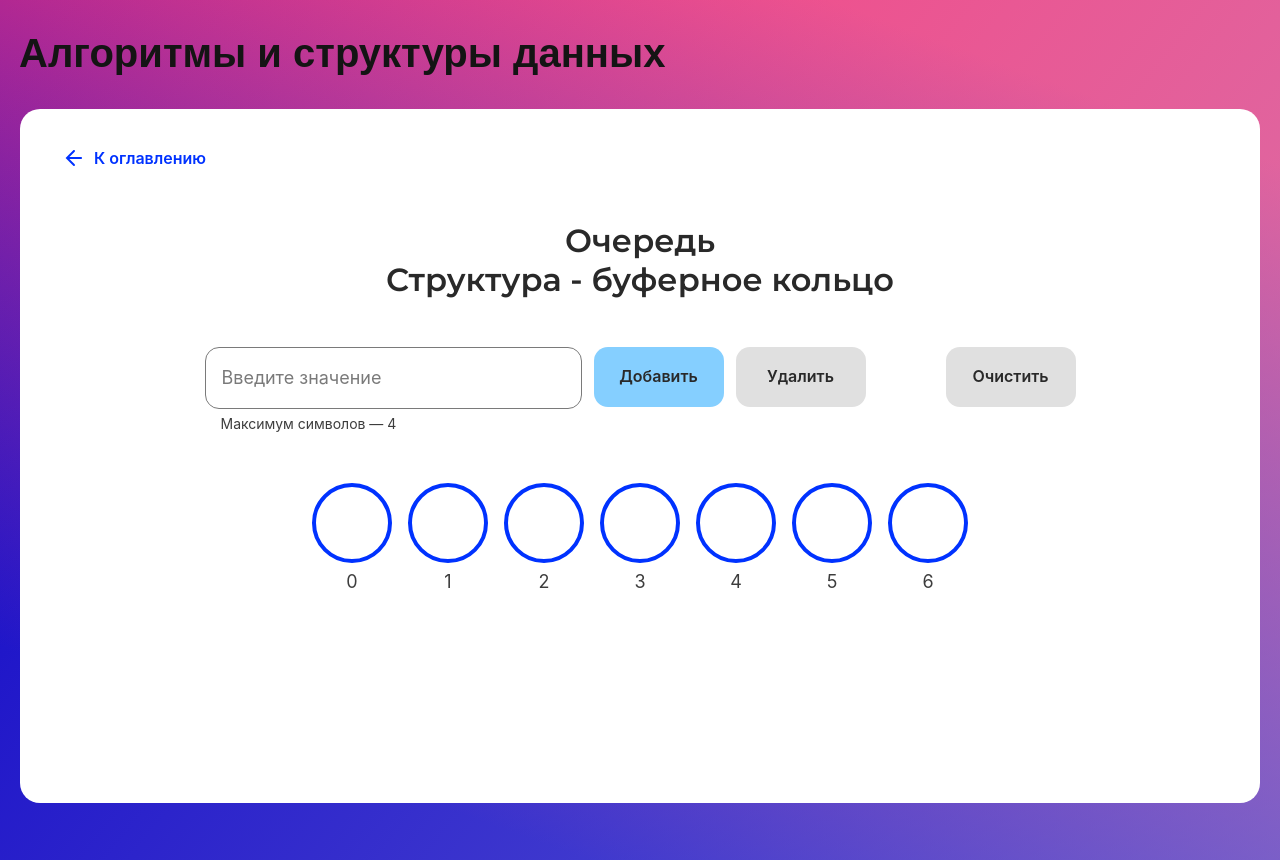
Scenario: stack visualizer work › buttons and input › should limit input value
Type "12345" into the field with placeholder "Введите значение". click: (394, 378)
box: 205,347 -> 582,409
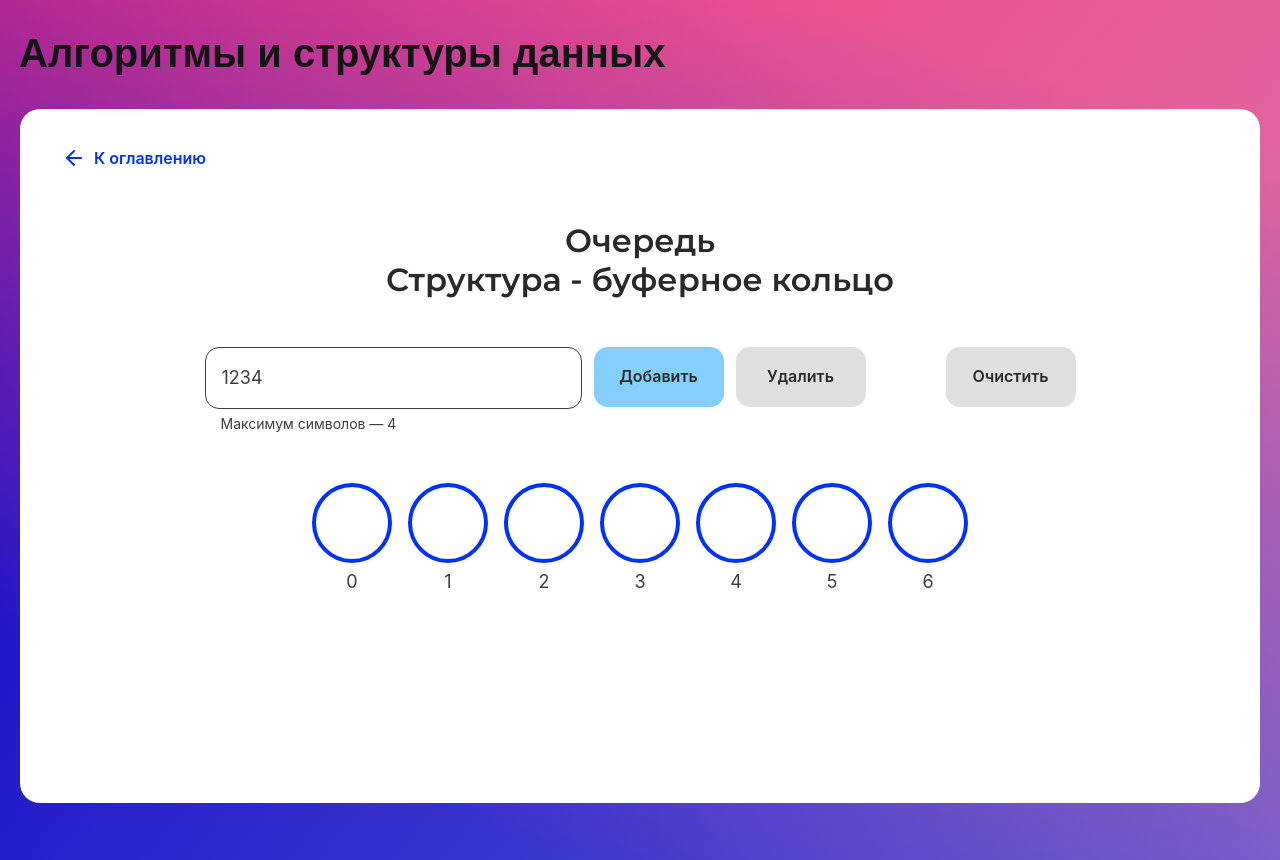
Now the field holds "1234", box 205,347 -> 582,409
